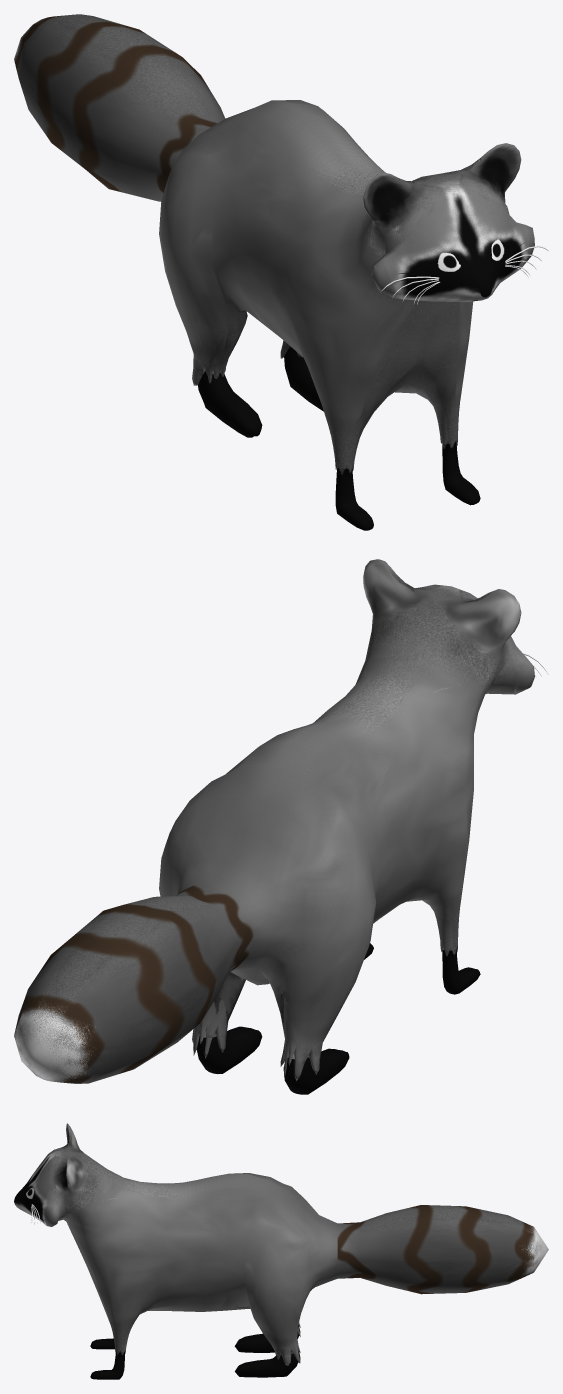
The model's file is guaxinin.fbx.
The picture shows the model from 3 angles, top to bottom: view 1: azimuth 30°, elevation 25°; view 2: azimuth 150°, elevation 25°; view 3: azimuth 270°, elevation 25°; orthographic projection. The views are drawn at different scales.
Visible parts, largest first — view 1: guaxinin; view 2: guaxinin; view 3: guaxinin.
Part boxes in pixels (x1=…): guaxinin: x1=14, y1=14, x2=548, y2=530; guaxinin: x1=14, y1=559, x2=548, y2=1094; guaxinin: x1=14, y1=1123, x2=548, y2=1379.
Bounding box in the file's own units: 18.1 × 32.43 × 71.07.
1 material, 1 textured.
